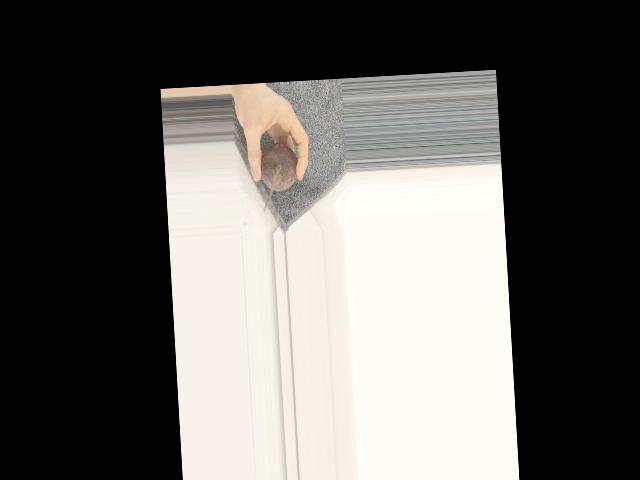beet: (259, 142, 300, 212)
